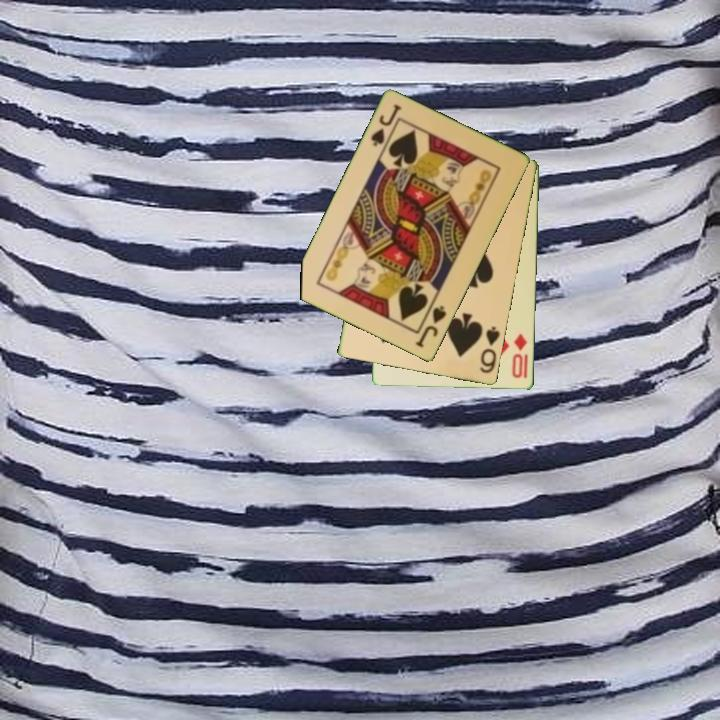10d: (509, 330, 530, 381)
6s: (476, 323, 503, 376)
Js: (367, 101, 405, 150), (412, 302, 449, 351)
